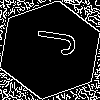J: (24, 25, 78, 58)
